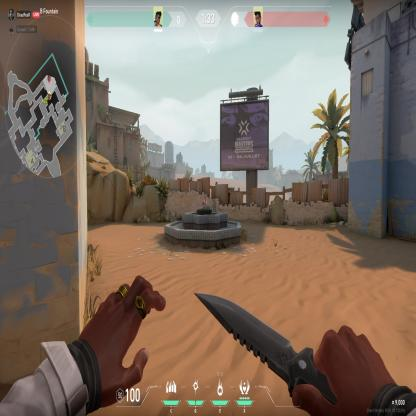enemy: (202, 195, 208, 208)
